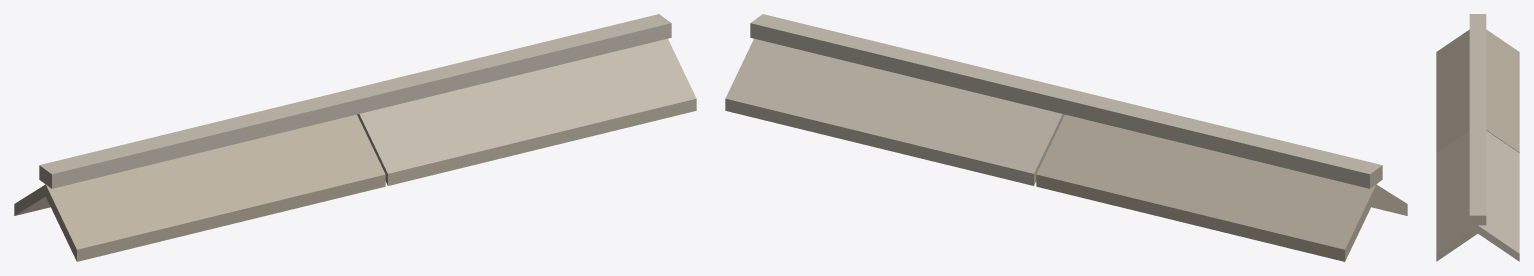
File: RoofRidge8.glb
3 views of the same model, side by side, from view 1: azimuth 30°, elevation 25°; view 2: azimuth 150°, elevation 25°; view 3: azimuth 270°, elevation 25° (orthographic). The views are drawn at different scales.
Parts seen in each view (by area): view 1: Wood; view 2: Wood; view 3: Wood.
Boxes of the visible parts, left/top/right/bottom form: Wood: left=14, top=14, right=696, bottom=261; Wood: left=725, top=14, right=1407, bottom=261; Wood: left=1436, top=14, right=1519, bottom=261.
Size of what is drawn, in the model's own units: 8 by 0.855 by 1.4.
